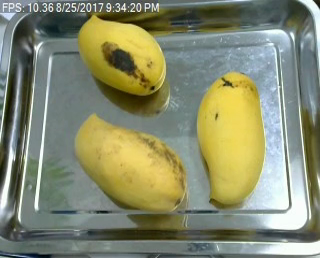Mango: (73, 113, 187, 211), (196, 71, 263, 203), (77, 13, 166, 96)
